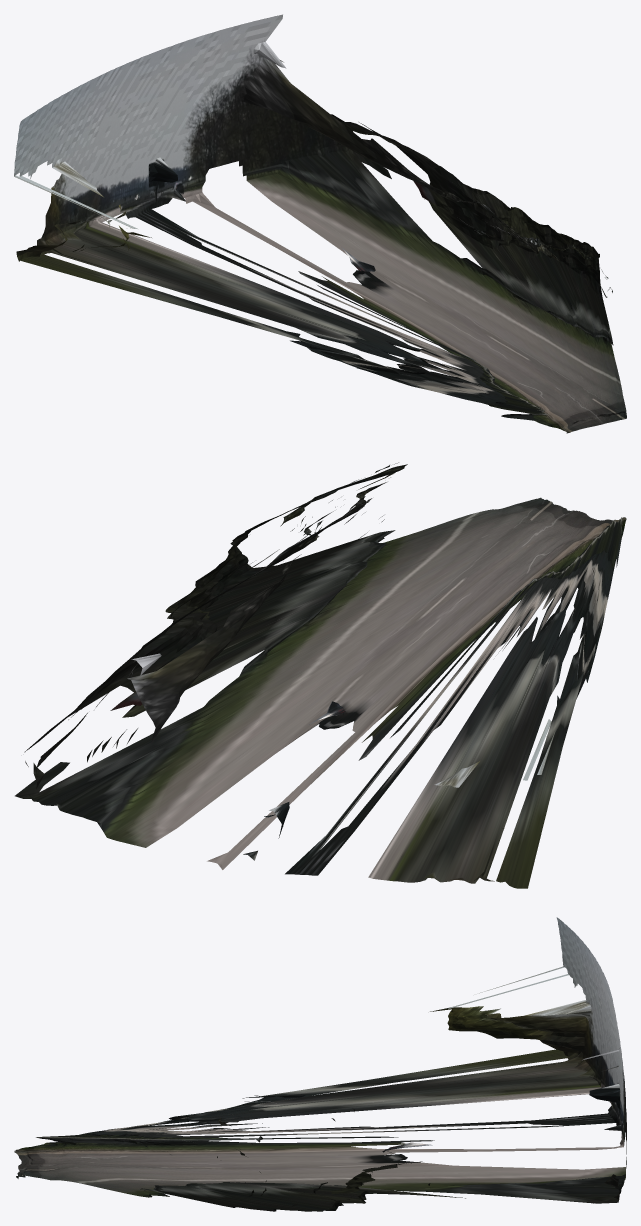
3 renders of one model, top to bottom at view 1: azimuth 30°, elevation 25°; view 2: azimuth 150°, elevation 25°; view 3: azimuth 270°, elevation 25°, orthographic. The views are drawn at different scales.
Visible parts, largest first — view 1: defaultobject; view 2: defaultobject; view 3: defaultobject.
Part boxes in pixels (x1,y1,x2,y2): defaultobject: (14, 14, 626, 433); defaultobject: (15, 462, 626, 888); defaultobject: (14, 917, 626, 1211).
Bounding box in the file's own units: 30.7 × 12.08 × 44.82.
Materials: 1 (1 with a texture image).
